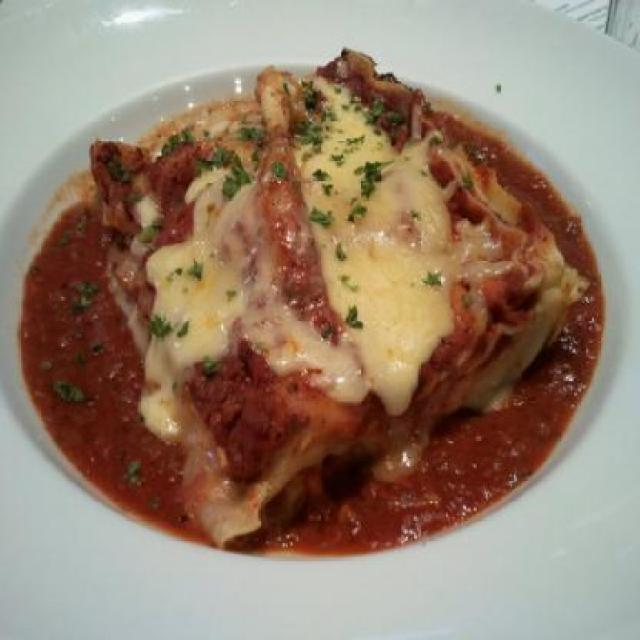Lasagna: (96, 67, 573, 496)
